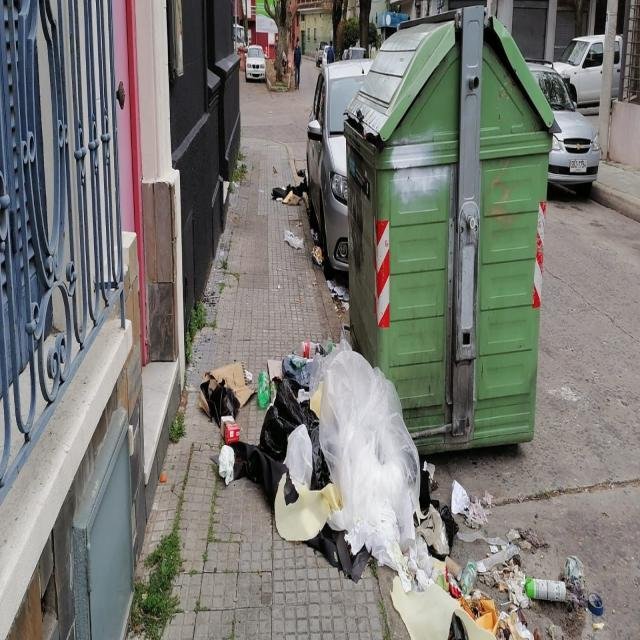garbage: (192, 347, 442, 586), (392, 476, 584, 639), (268, 154, 323, 284), (576, 570, 609, 628)
